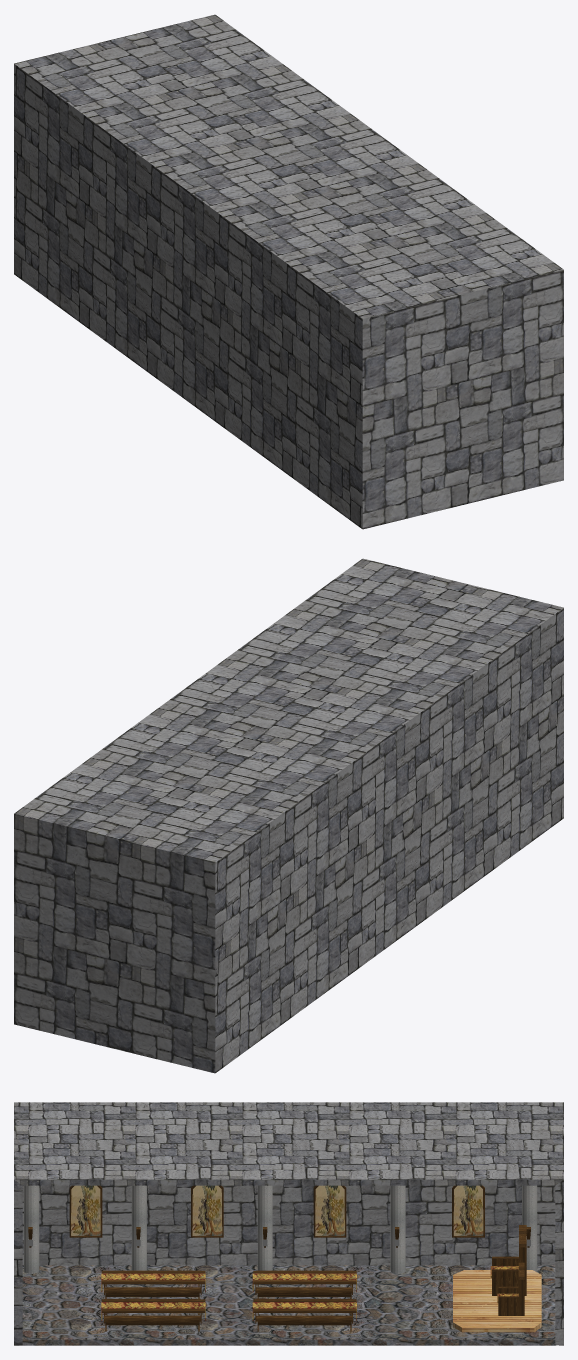
File: roomHall.dae
The picture shows the model from 3 angles, top to bottom: view 1: azimuth 30°, elevation 25°; view 2: azimuth 150°, elevation 25°; view 3: azimuth 270°, elevation 25°; orthographic projection. The views are drawn at different scales.
Visible parts, largest first — view 1: Room; view 2: Room; view 3: Room, Cube, Dais, Picture_001, Picture_003, Picture_000, Picture_002, Table_001, Table_002, Table, Table_003, Pillar_004 (+10 smaller).
Part boxes in pixels (<box>): Room: <box>14,14,563,529</box>; Room: <box>14,558,563,1073</box>; Room: <box>14,1102,563,1345</box>; Cube: <box>19,1265,555,1345</box>; Dais: <box>453,1270,541,1332</box>; Picture_001: <box>313,1185,346,1237</box>; Picture_003: <box>69,1185,102,1237</box>; Picture_000: <box>452,1185,484,1237</box>; Picture_002: <box>191,1185,223,1237</box>; Table_001: <box>252,1299,356,1323</box>; Table_002: <box>101,1299,205,1323</box>; Table: <box>252,1271,356,1294</box>; Table_003: <box>101,1271,205,1294</box>; Pillar_004: <box>24,1185,39,1273</box>.
Bounding box in the file's own units: 30 × 90 × 30.1.
8 materials, 8 textured.
